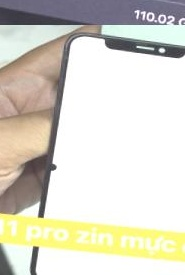screen_defect: (46, 157, 58, 174)
